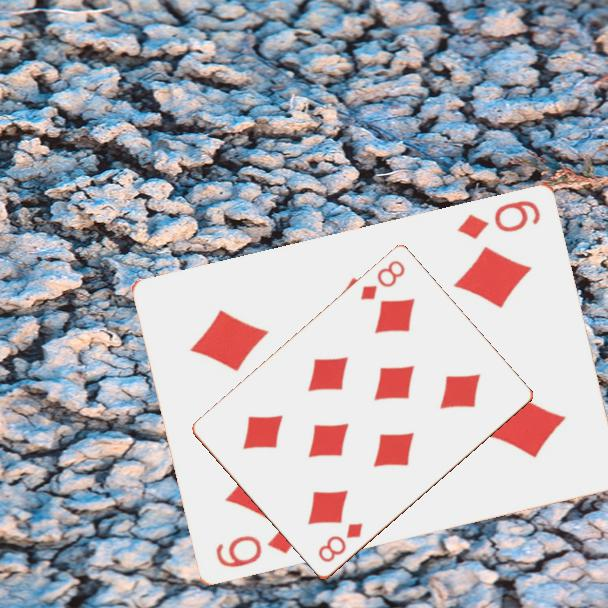d06: (212, 524, 303, 570), (454, 196, 544, 242)
d08: (357, 257, 408, 304), (315, 520, 366, 566)
